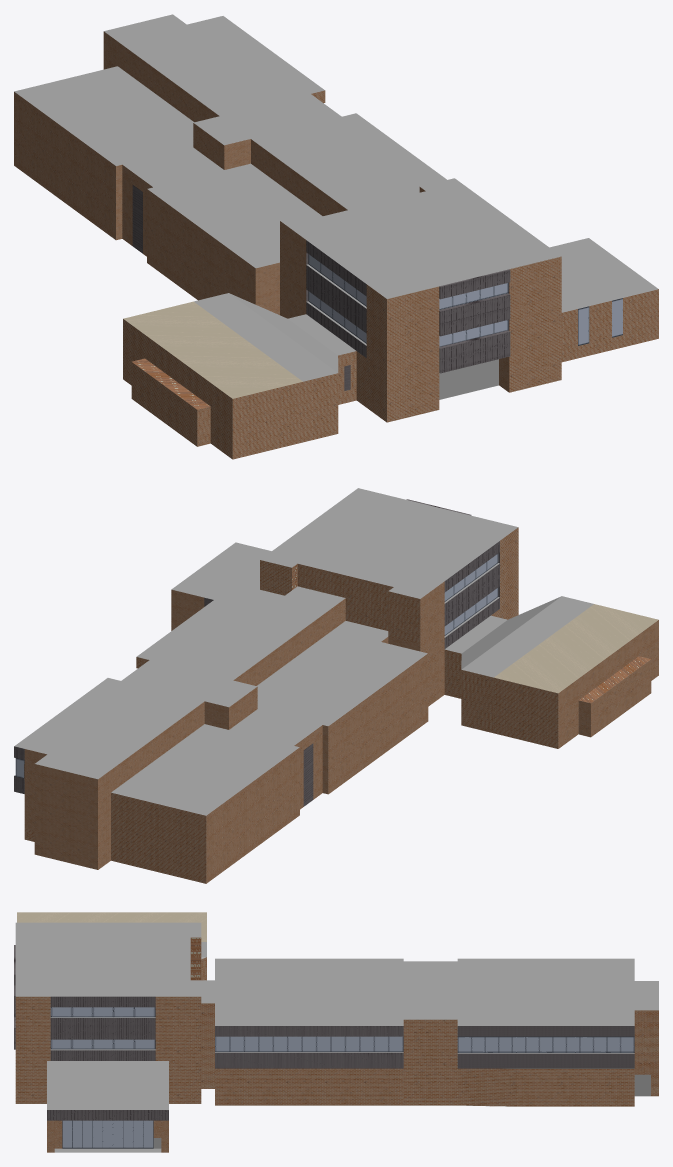
The model's file is Education.fbx.
3 renders of one model, top to bottom at view 1: azimuth 30°, elevation 25°; view 2: azimuth 150°, elevation 25°; view 3: azimuth 270°, elevation 25°, orthographic. The views are drawn at different scales.
Parts seen in each view (by area): view 1: main; view 2: main; view 3: main.
Part boxes in pixels (left/top/right/bottom): main: left=14, top=14, right=658, bottom=459; main: left=14, top=488, right=658, bottom=883; main: left=14, top=912, right=658, bottom=1152.
Bounding box in the file's own units: 2.62 × 0.6756 × 3.68.
